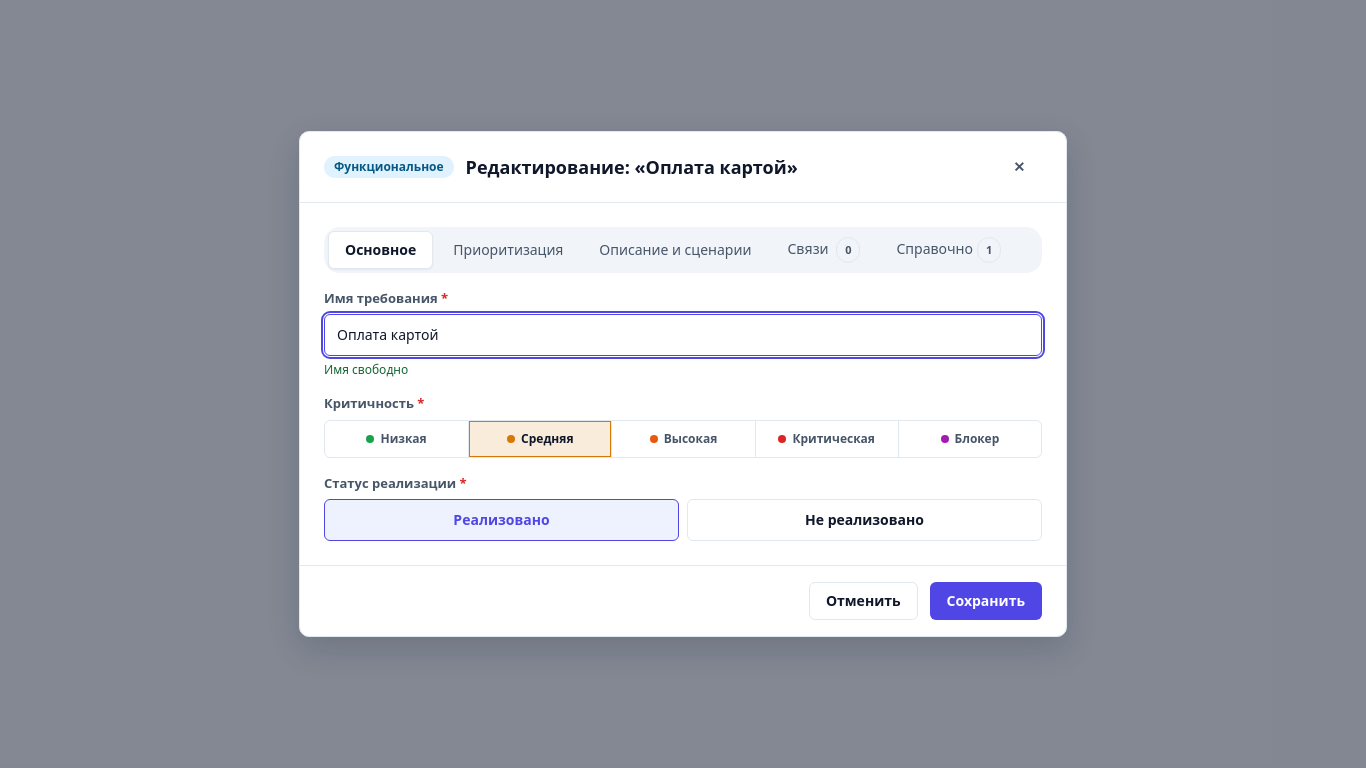
Scenario: RequirementModal — link sections & error branches (Task 12 · F-1) › FR-20: deleting an info item asks inline; «Нет» keeps it, «Да» removes it
Click the tab with test id "req-tab-info" at (949, 250), box [880,231,1017,269]
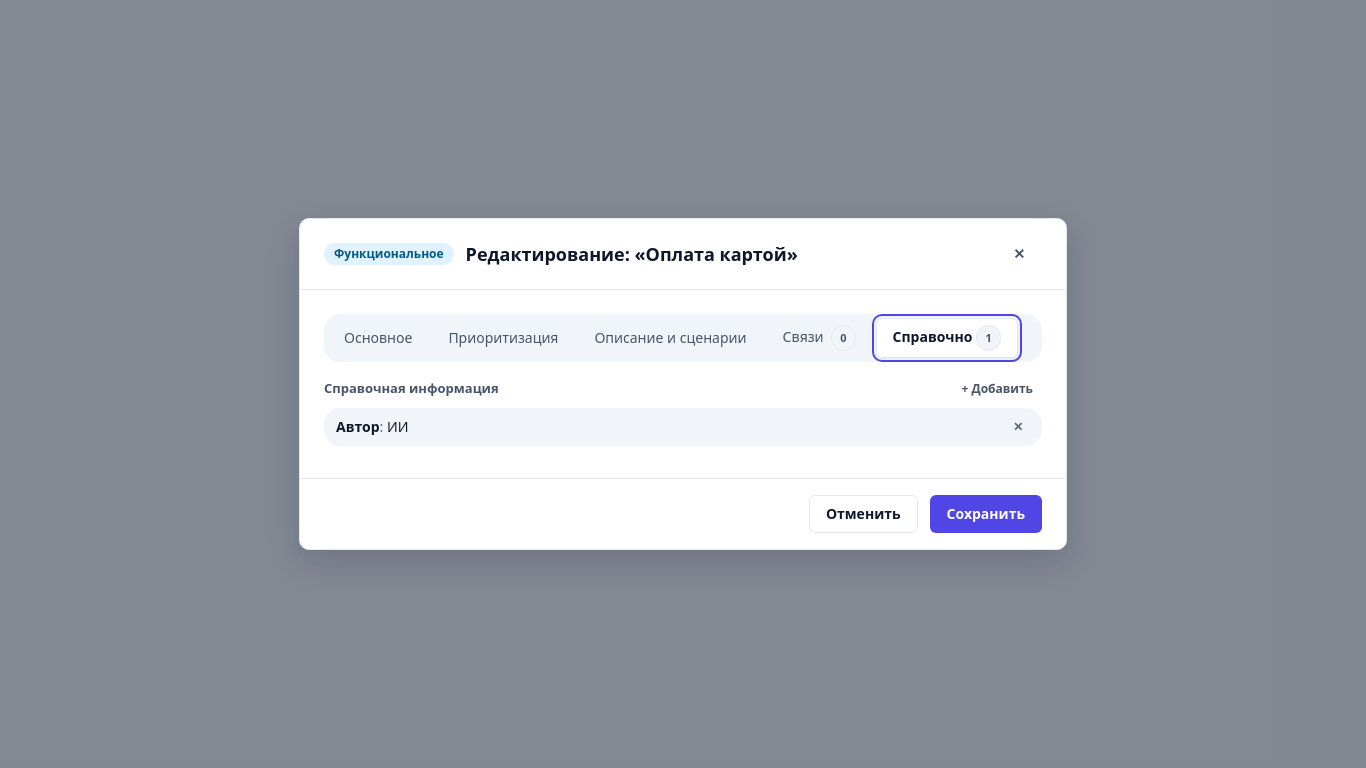
Click the button with test id "info-delete-0" at (1018, 427), box [1006,416,1030,438]
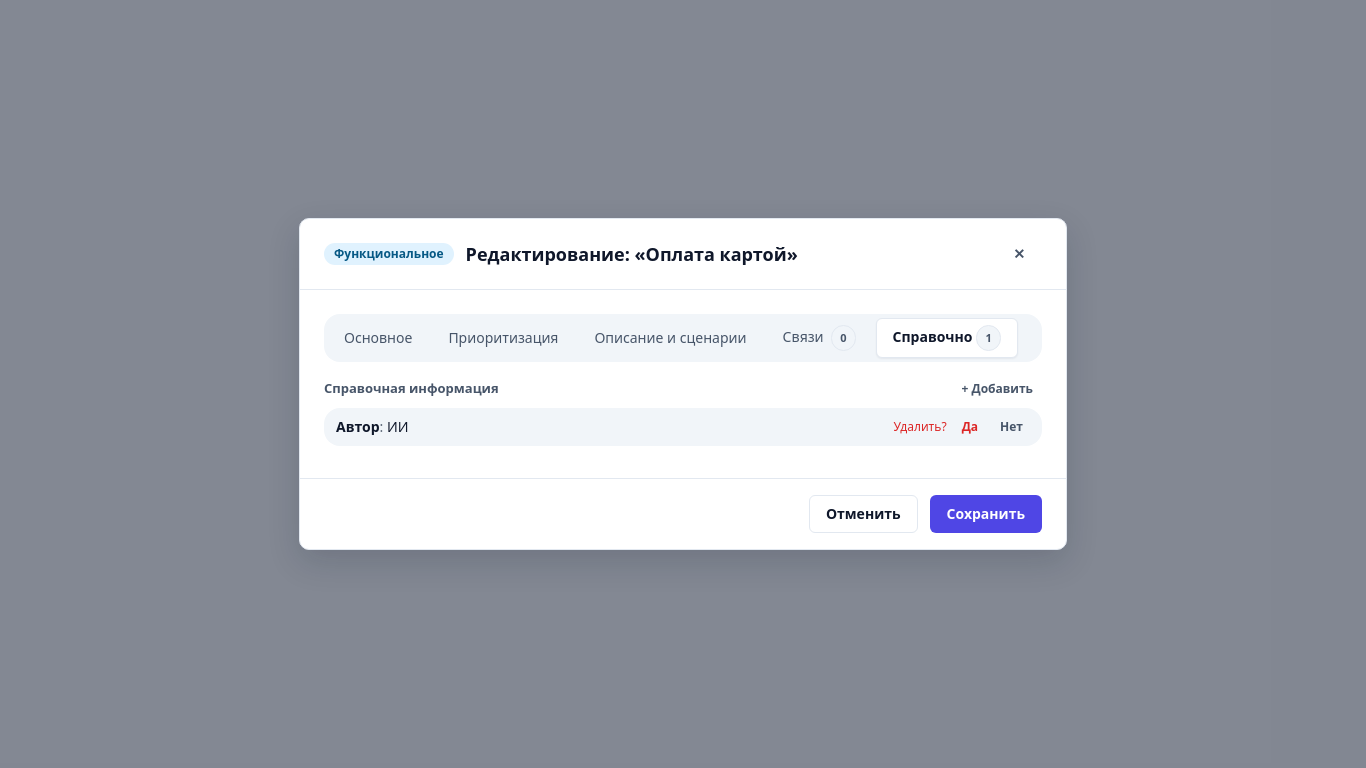
Now the text "Удалить?" is shown, box [894,419,947,435]
Click the button with test id "info-delete-cancel-0" at (1012, 427), box [993,416,1030,438]
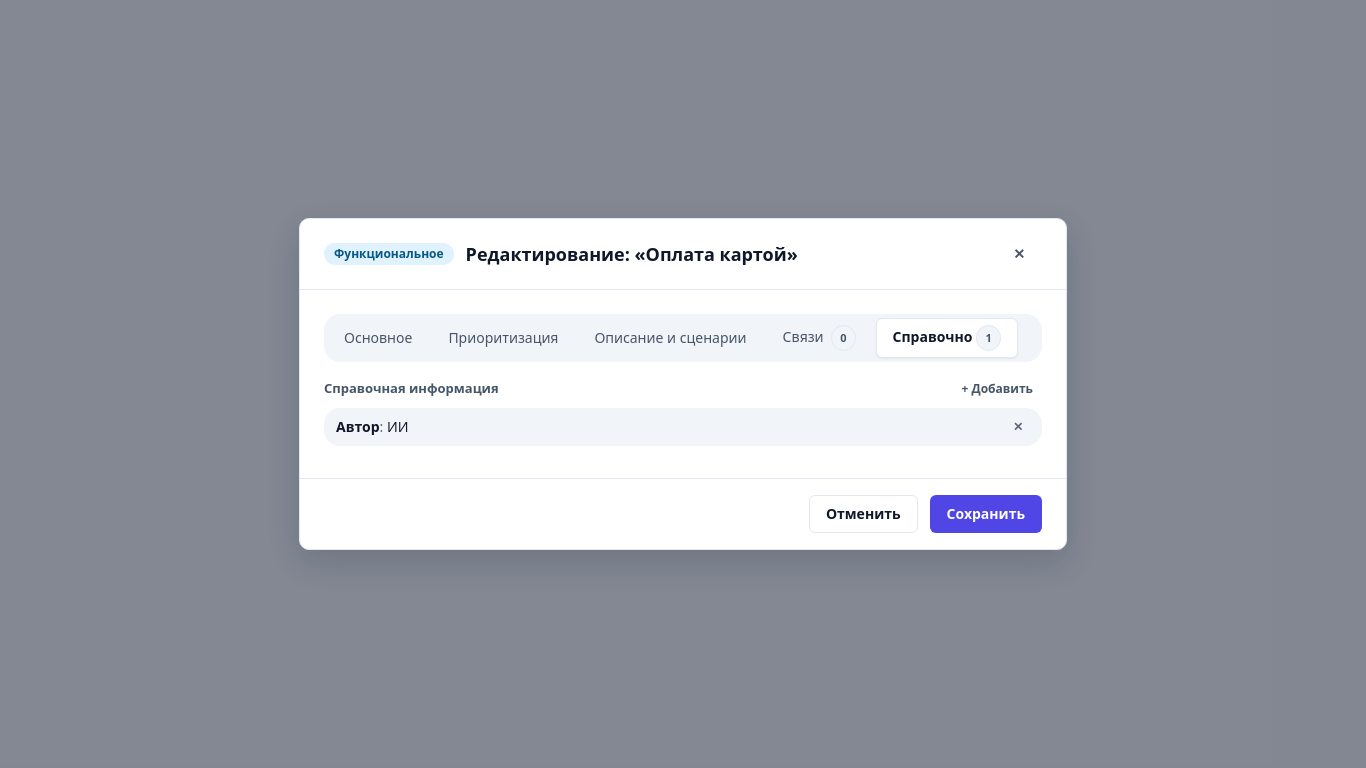
Now the text "Автор" is shown, box [336,417,380,436]
Click the button with test id "info-delete-0" at (1018, 427), box [1006,416,1030,438]
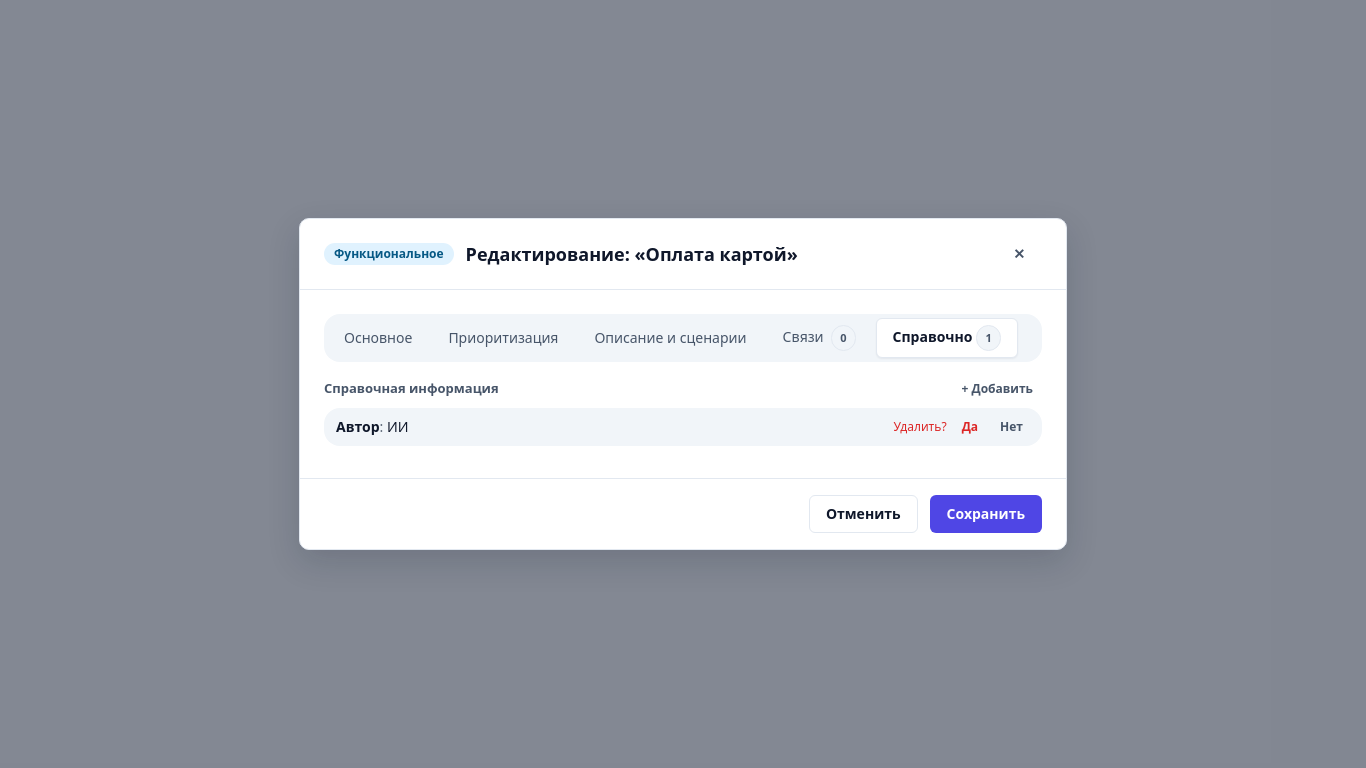
Click the button with test id "info-delete-confirm-0" at (970, 427), box [955,416,985,438]
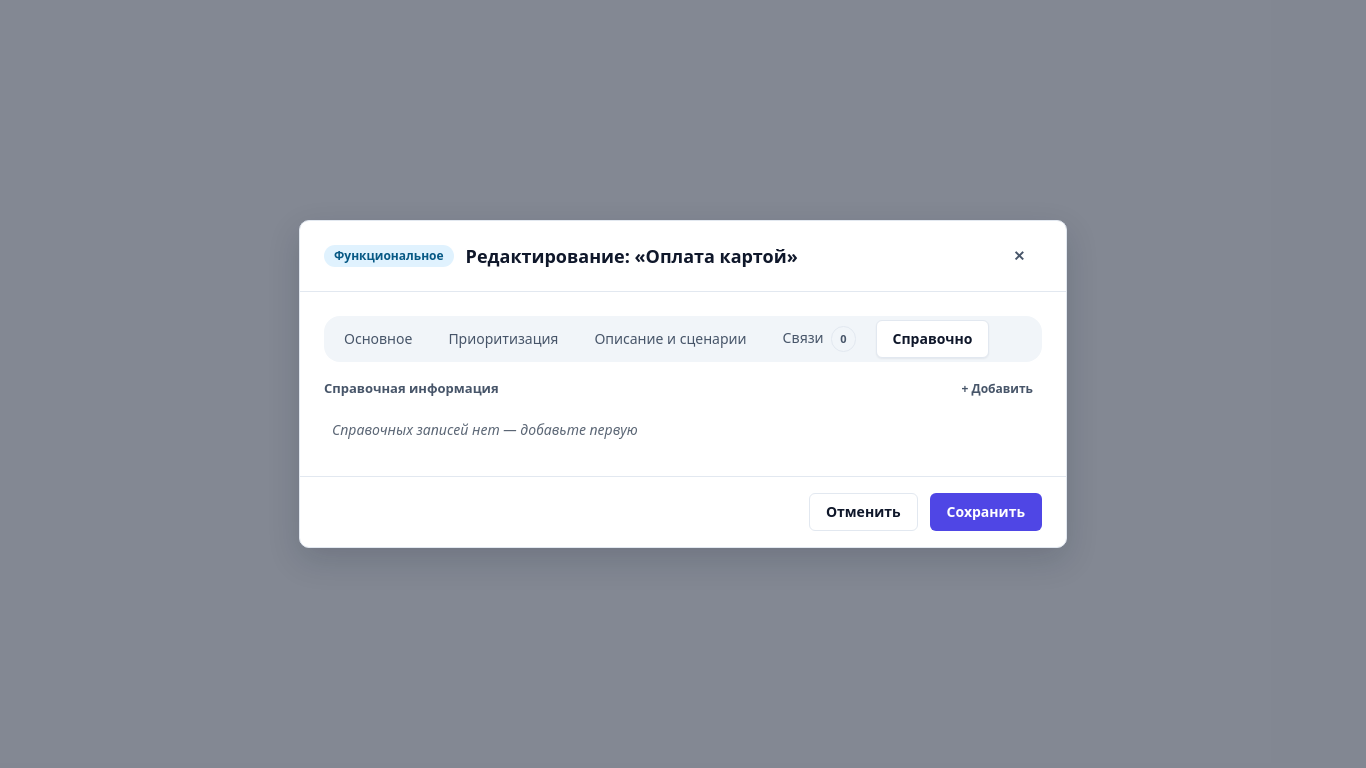
Now the text "Автор" is gone
